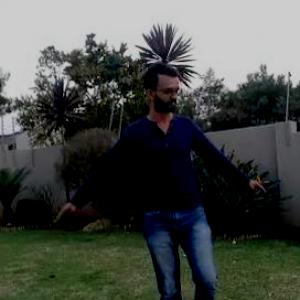land: (102, 57, 252, 299)
